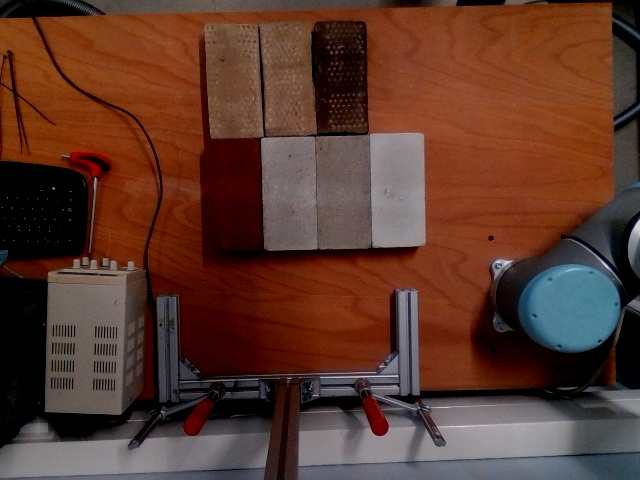brick: (202, 137, 263, 252), (257, 20, 315, 136), (259, 135, 317, 249), (315, 133, 372, 248), (203, 23, 260, 138), (371, 131, 426, 246), (314, 19, 368, 132)
